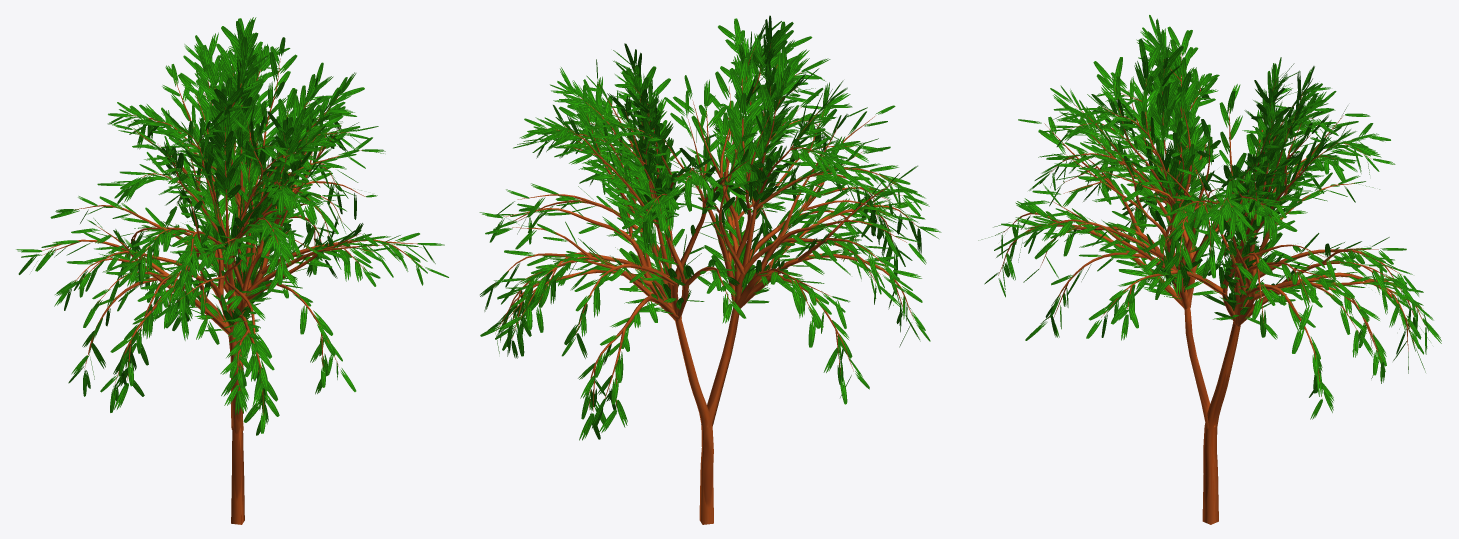
File: Tree_1.fbx
The picture shows the model from 3 angles, left to right: view 1: azimuth 30°, elevation 25°; view 2: azimuth 150°, elevation 25°; view 3: azimuth 270°, elevation 25°; orthographic projection. The views are drawn at different scales.
Visible parts, largest first — view 1: Tree1; view 2: Tree1; view 3: Tree1.
Boxes of the visible parts, x1,y1,x2,y2 form: Tree1: (16,17,448,524); Tree1: (479,15,941,524); Tree1: (978,15,1441,524).
Size of the model in its own units: 539 by 656 by 579.
